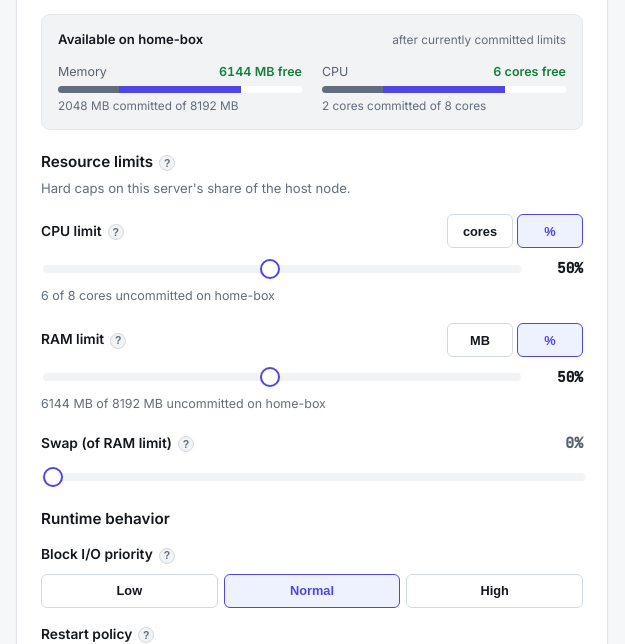
Test case: NewDeployment › resource units and capacity › converts the value when the unit is switched rather than resetting it
The image size is (625, 644).
(page scrolled)
Expected: the text "6144 MB of 8192 MB uncommitted on home-box" is shown, x1=41 y1=396 x2=326 y2=411
// The form starts at 50% of an 8192 MB node.
Click the button with aria-label "RAM limit in MB" at (480, 340), box x1=447 y1=323 x2=513 y2=357
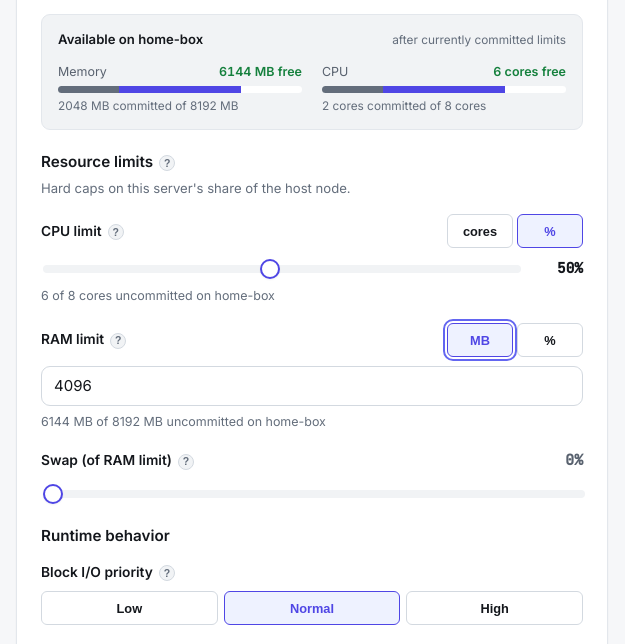
Now the number field named "RAM limit" holds "4096", box x1=41 y1=366 x2=583 y2=406
// And back again, unchanged.
Click the button named "RAM limit in %" at (550, 340), box x1=517 y1=323 x2=583 y2=357
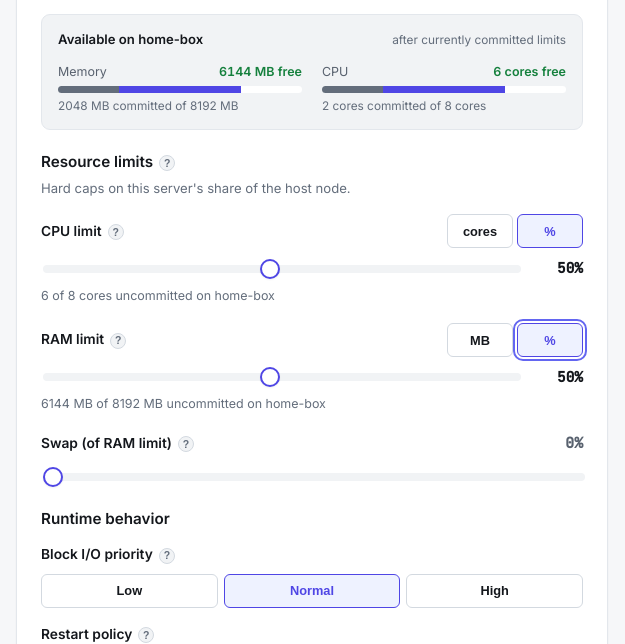
Now the slider named "RAM limit percent" holds "50", box x1=43 y1=373 x2=521 y2=381
